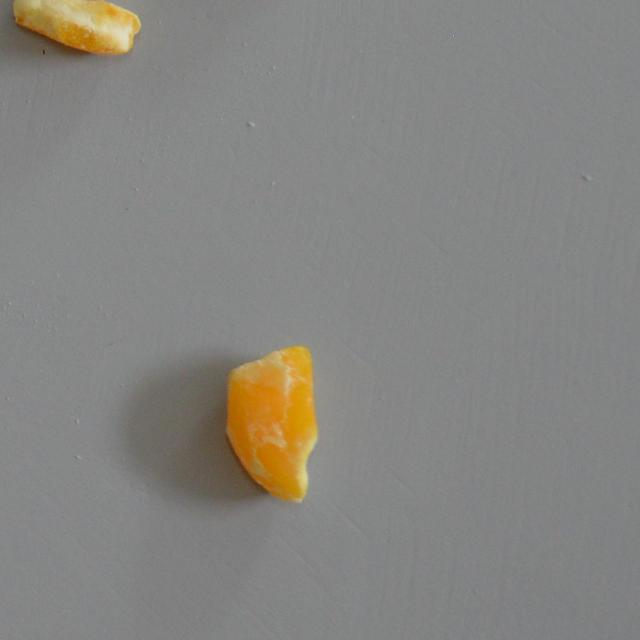pelicula: (224, 342, 320, 505), (33, 0, 123, 78)
